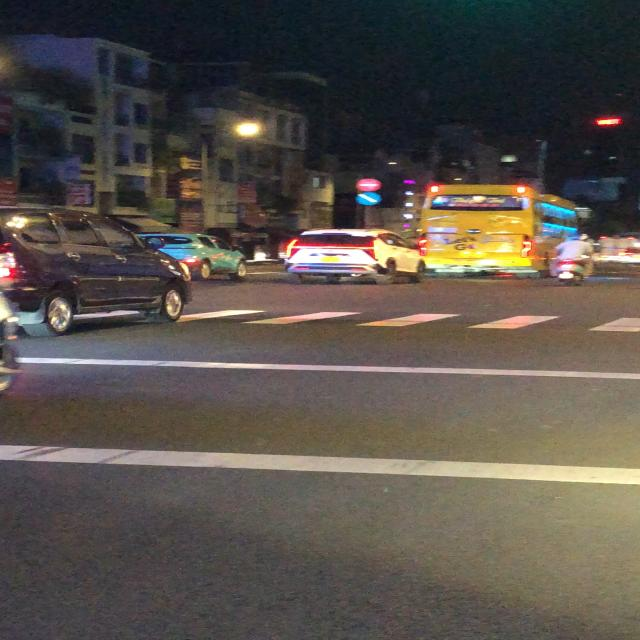Bien bao cam di nguoc chieu: (355, 178, 384, 192)
Bien bao huong phai di vong chuong ngai vat: (355, 192, 383, 206)
